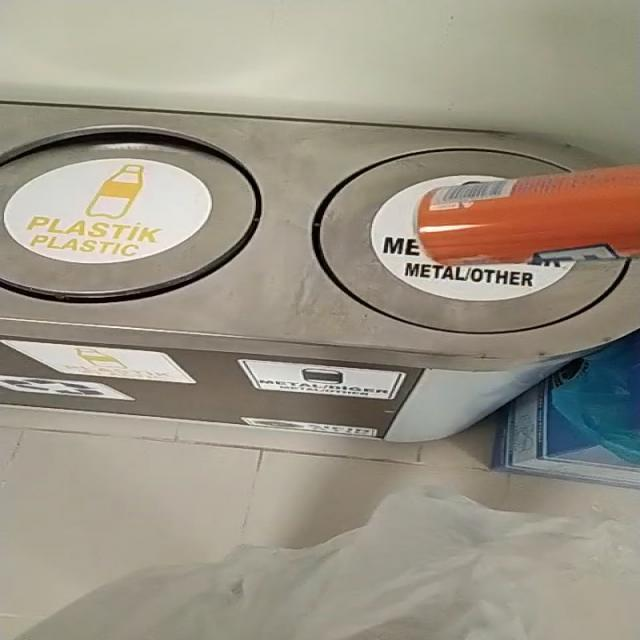Bin: (0, 103, 640, 442)
Metal: (419, 165, 640, 265)
